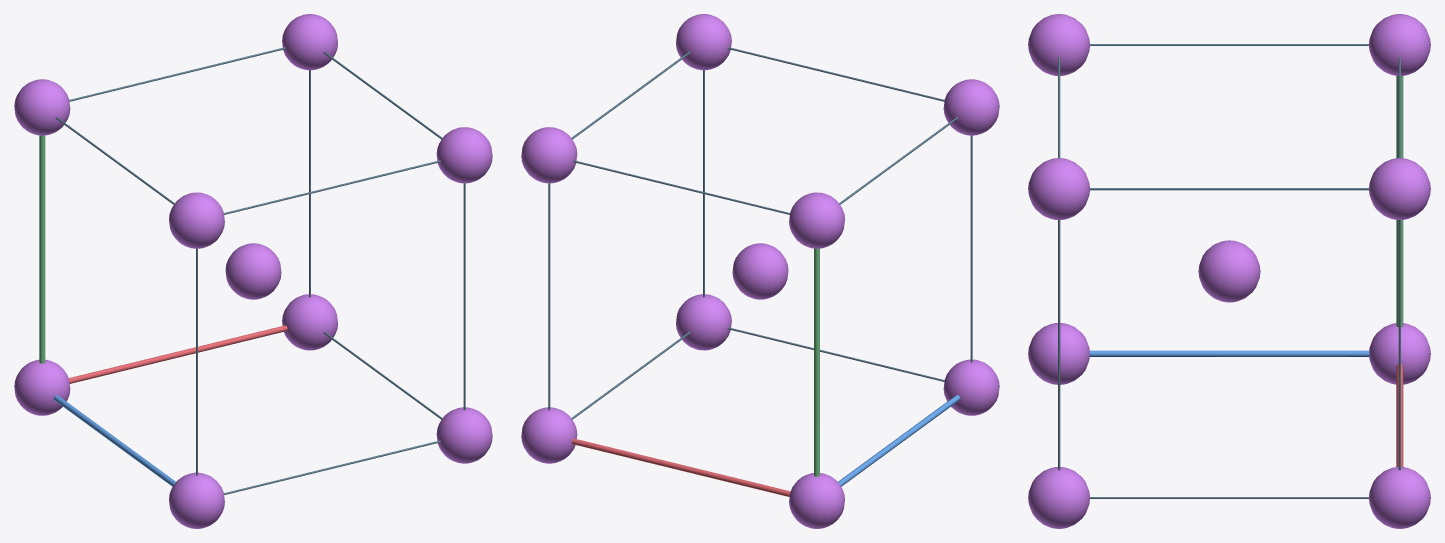
The model's file is nguyen-to-li.glb.
3 views of the same model, side by side, from view 1: azimuth 30°, elevation 25°; view 2: azimuth 150°, elevation 25°; view 3: azimuth 270°, elevation 25° (orthographic). The views are drawn at different scales.
Visible parts, largest first — view 1: Li · Li · 1 (×9), Ô mạng và các trục a, b, c; view 2: Li · Li · 1 (×9), Ô mạng và các trục a, b, c; view 3: Li · Li · 1 (×9), Ô mạng và các trục a, b, c.
Boxes of the visible parts, x1,y1,x2,y2 form: Li · Li · 1 (×9): (14,14,492,528); Ô mạng và các trục a, b, c: (39,47,465,494); Li · Li · 1 (×9): (521,14,999,528); Ô mạng và các trục a, b, c: (548,47,972,496); Li · Li · 1 (×9): (1028,14,1430,528); Ô mạng và các trục a, b, c: (1058,44,1403,498).
Size of the model in its own units: 4.15 by 4.15 by 4.15.
